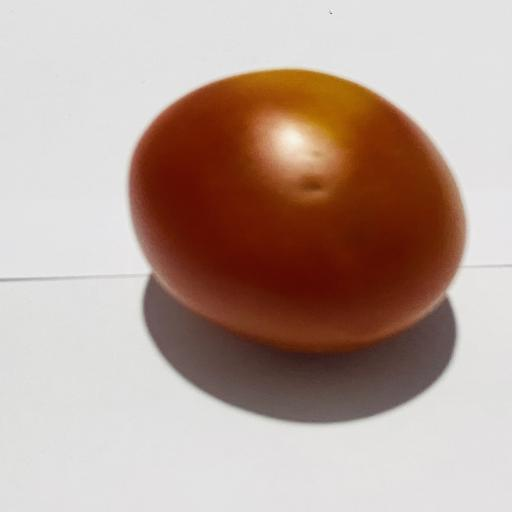ripe: (130, 70, 465, 352)
